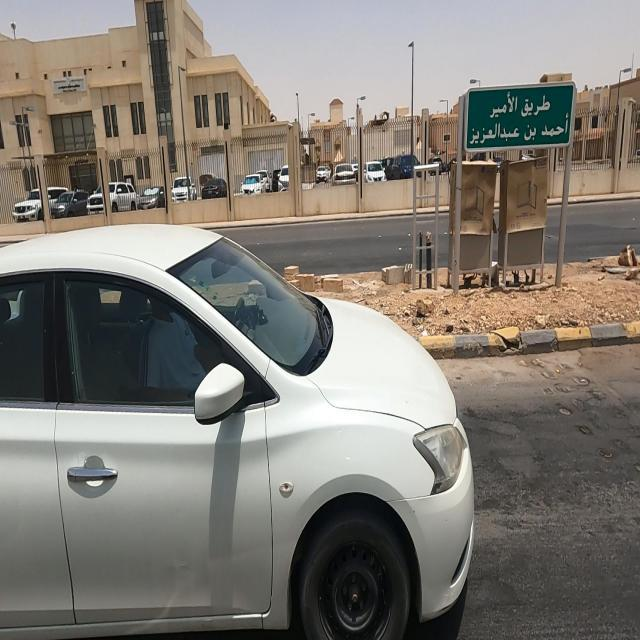debris: (579, 220, 640, 310), (389, 272, 462, 344)
